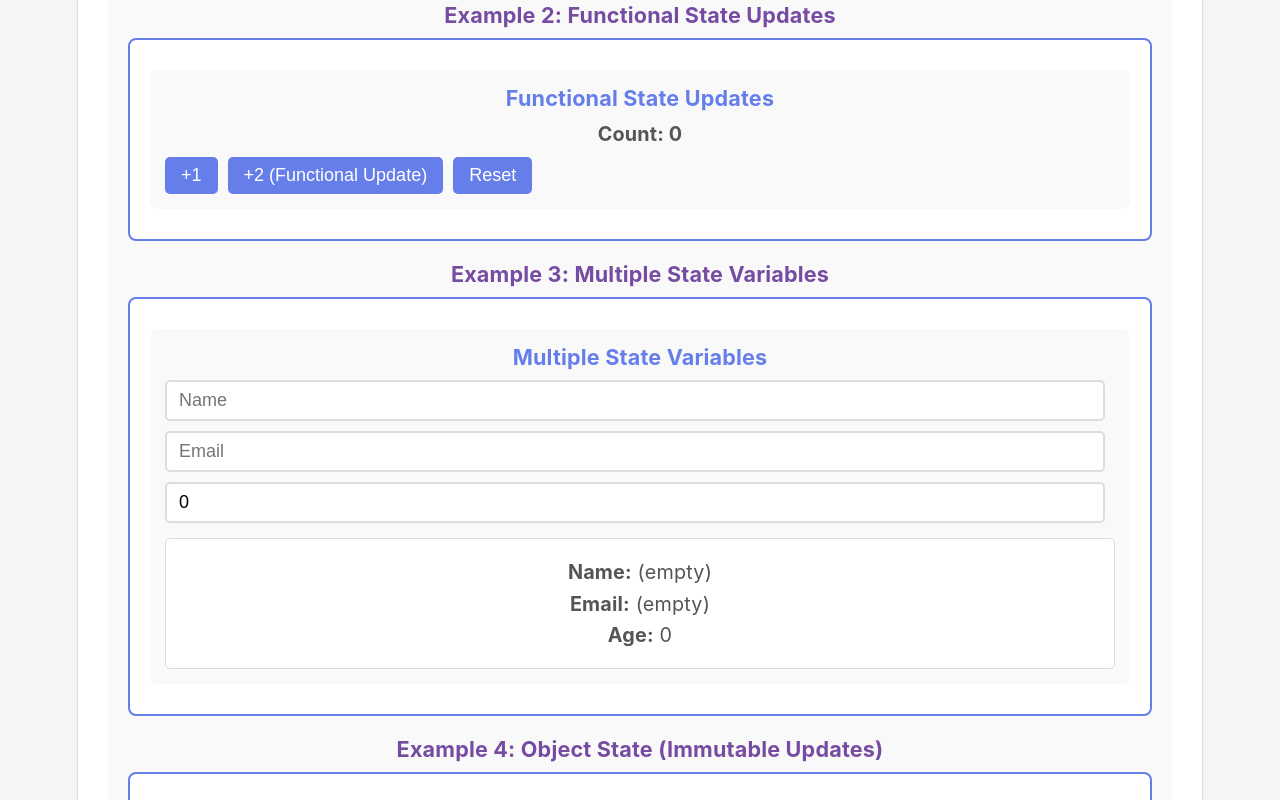
StateManagementDemo › updates multiple state variables independently
This screenshot has width=1280, height=800.
(page scrolled)
Type in each input
Type "Alice" into the field with placeholder "Name" at x=635, y=401, box [165,380,1105,422]
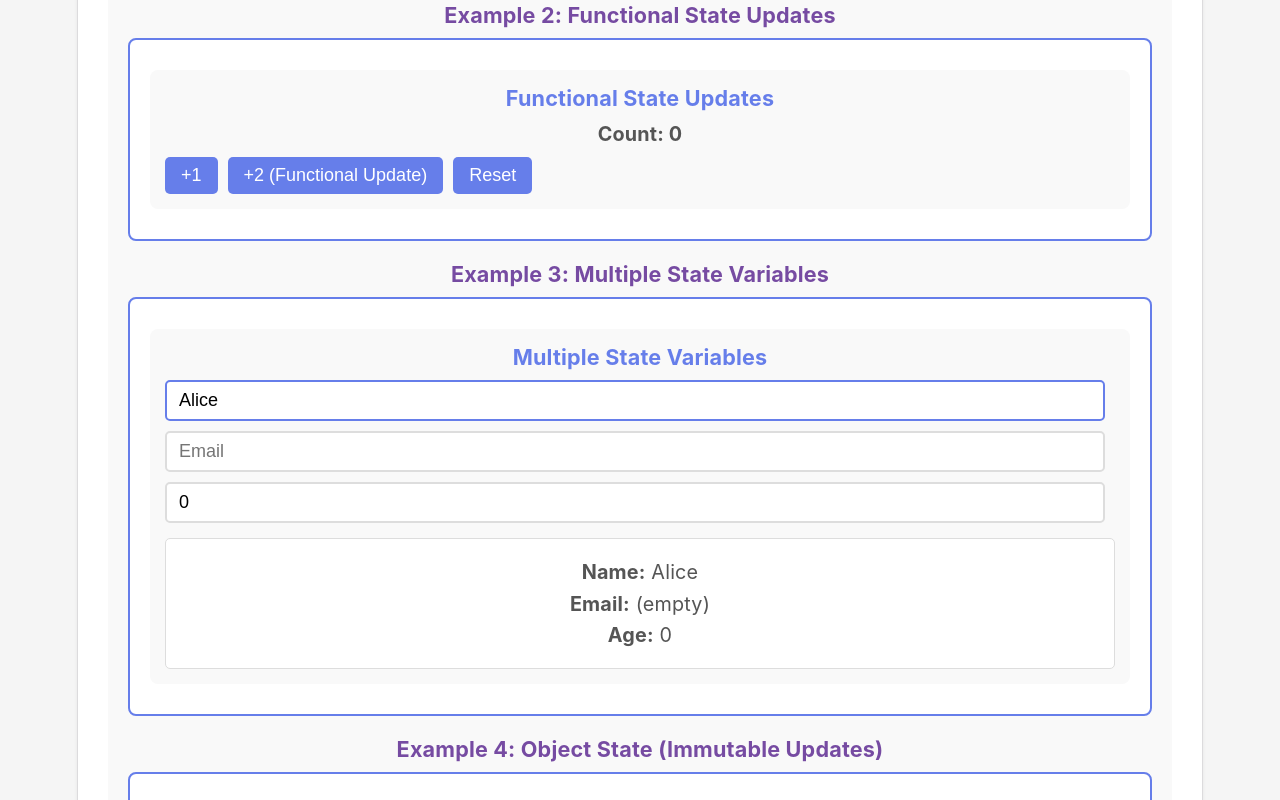
Type "alice@example.com" into the field with placeholder "Email" at x=635, y=452, box [165,432,1105,472]
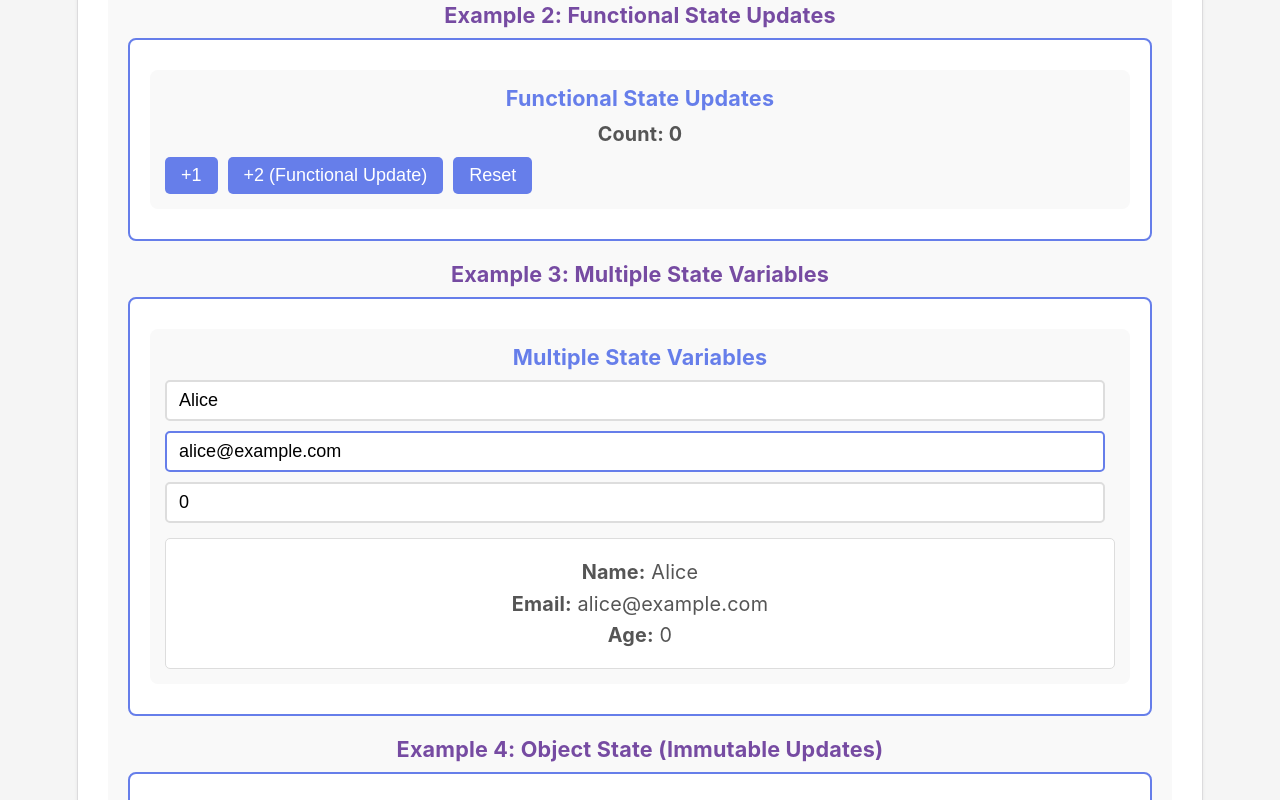
Replace the text in the number field with placeholder "Age" with "30" at x=635, y=503, box [165,482,1105,524]
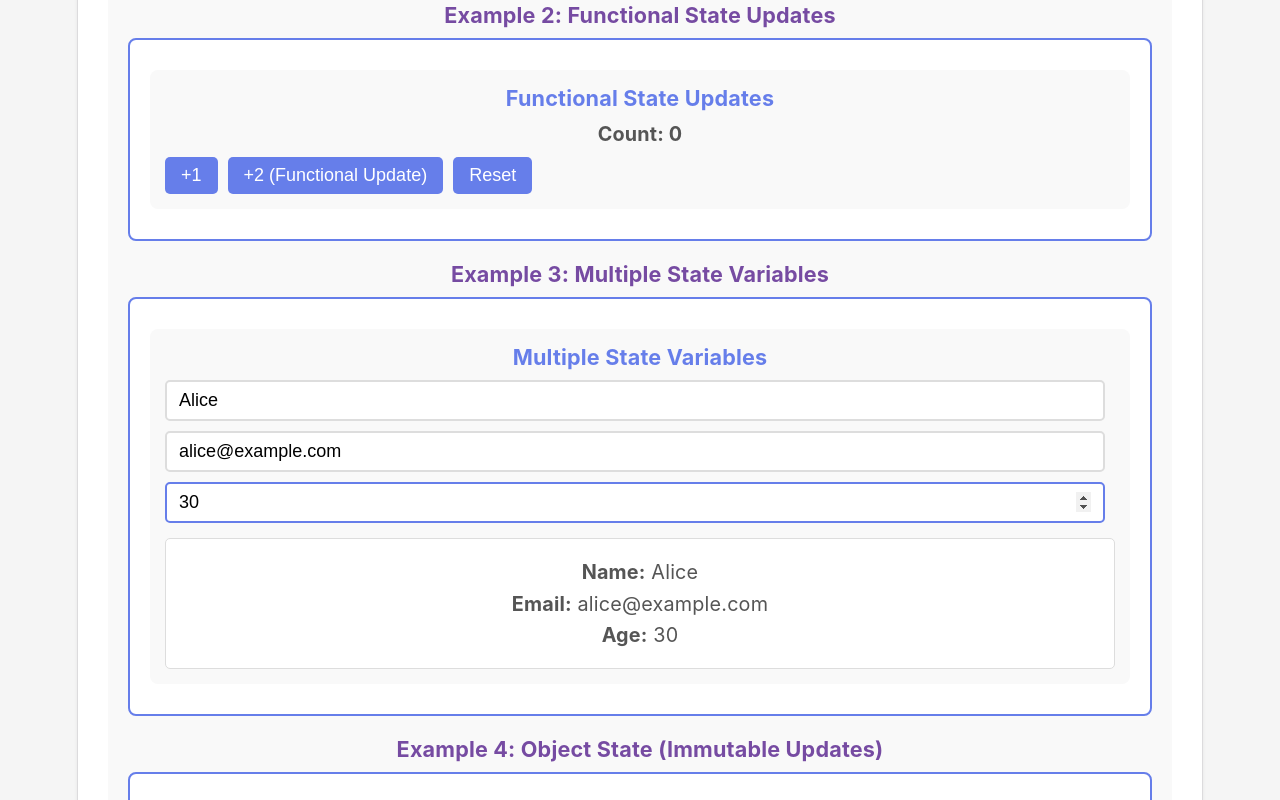
Check: the text "Alice" is shown, box [651,560,698,584]
Check: the text "alice@example.com" is shown, box [578,592,768,616]
Check: the text "30" is shown, box [653,623,678,647]
